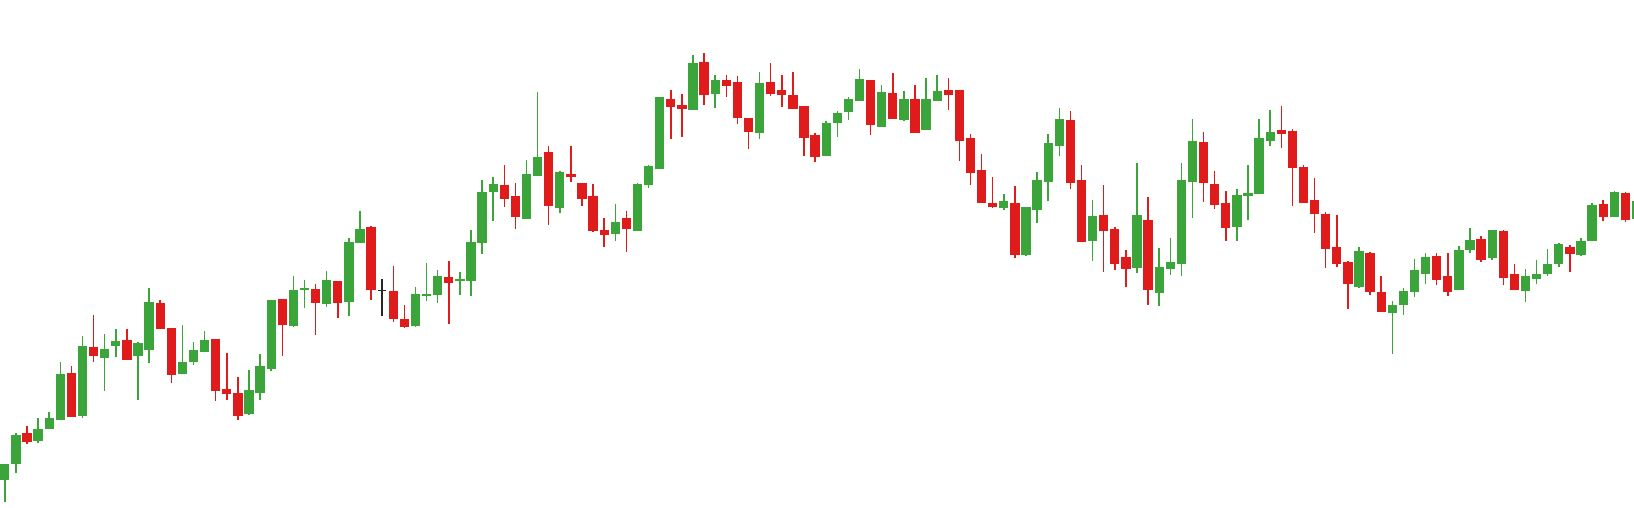buy: (134, 319, 257, 424), (509, 147, 619, 256)
sell: (1187, 102, 1289, 204)
